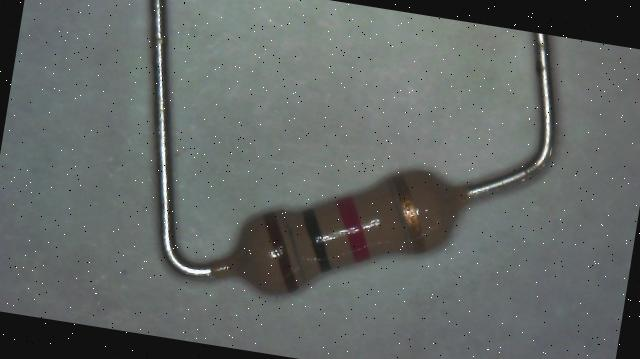black: (294, 206, 338, 274)
brown: (254, 212, 302, 290)
gold: (384, 174, 434, 252)
red: (328, 194, 378, 264)
resistor: (211, 130, 497, 319)
